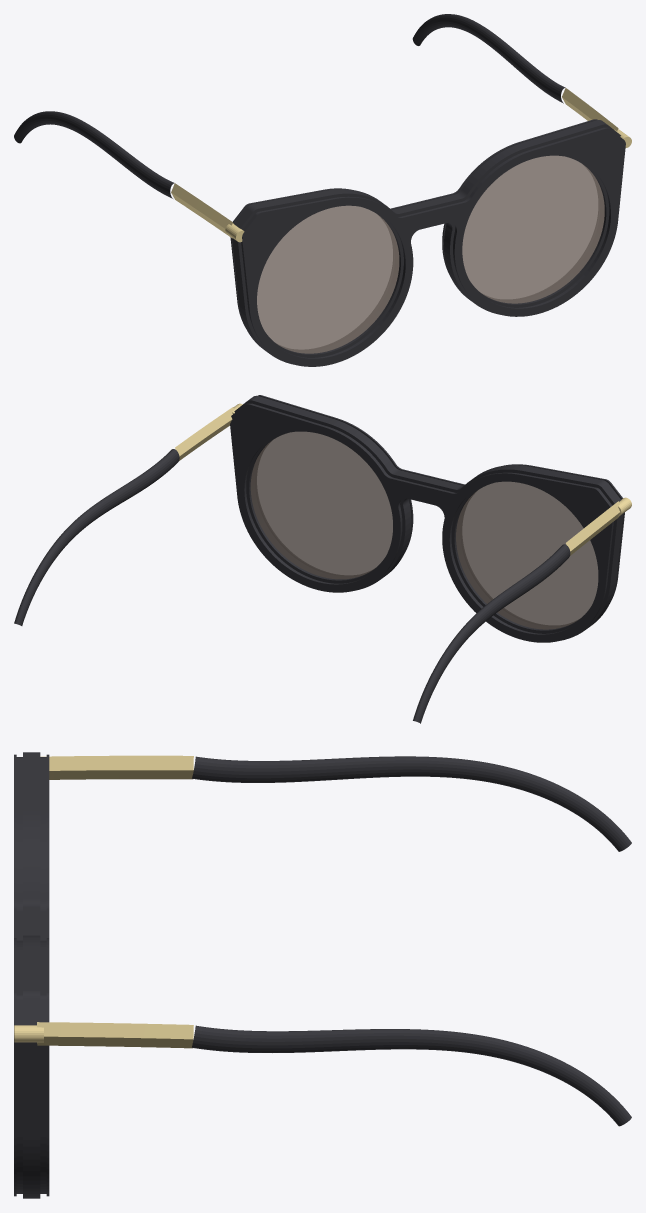
The model's file is thierry_lasry_cateye(4).glb.
The picture shows the model from 3 angles, top to bottom: view 1: azimuth 30°, elevation 25°; view 2: azimuth 150°, elevation 25°; view 3: azimuth 270°, elevation 25°; orthographic projection. The views are drawn at different scales.
Parts seen in each view (by area): view 1: lenses, frame, gold_parts; view 2: lenses, frame, gold_parts; view 3: frame, gold_parts.
Boxes of the visible parts, bbox=[...] form: lenses: bbox=[257, 155, 604, 353]; frame: bbox=[14, 14, 625, 366]; gold_parts: bbox=[171, 88, 631, 242]; lenses: bbox=[250, 431, 598, 629]; frame: bbox=[14, 395, 624, 723]; gold_parts: bbox=[175, 403, 631, 555]; frame: bbox=[14, 752, 631, 1198]; gold_parts: bbox=[14, 755, 193, 1048].
Bounding box in the file's own units: 0.1226 × 0.0496 × 0.1146.
